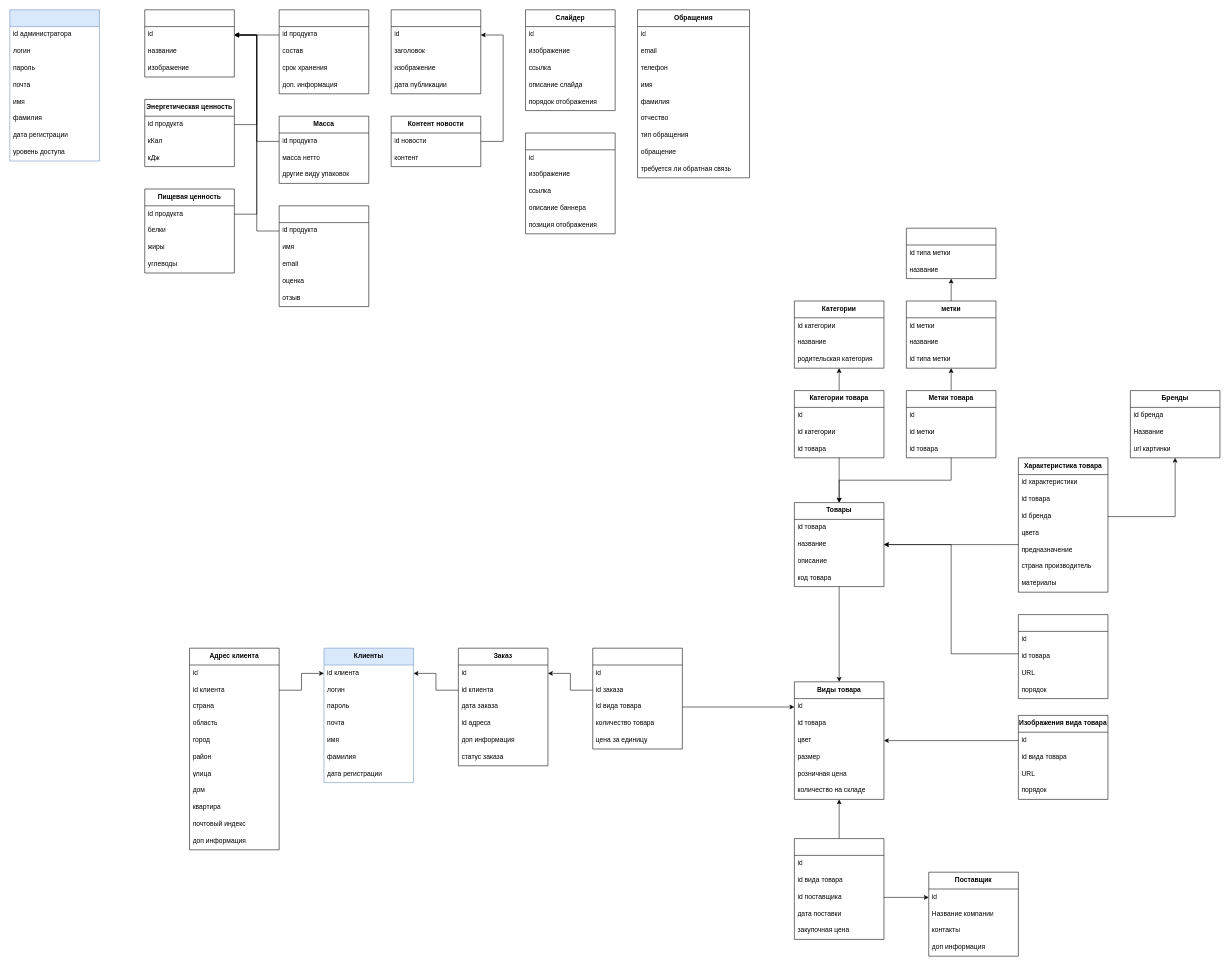
Some shapes in this 1230 by 968 pixel diagram are drawn without their labels. The box of each missing label's shape, as (x1, y1, x2, y2) in pixels:
Администраторы: (9, 9, 99, 161)
Банеры: (525, 132, 615, 234)
Изображения товара: (1018, 614, 1108, 699)
Новости: (391, 9, 481, 94)
Отзывы: (279, 205, 369, 307)
Поставки товара: (794, 838, 884, 939)
Продукция: (144, 9, 234, 77)
Содержимое заказа: (592, 648, 682, 749)
типы меток: (906, 228, 996, 279)
Характеристика: (279, 9, 369, 94)
